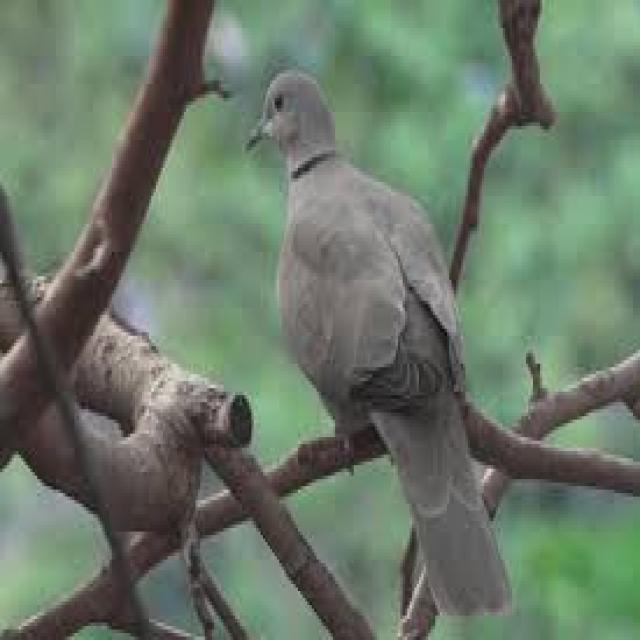bird: (240, 64, 522, 618)
